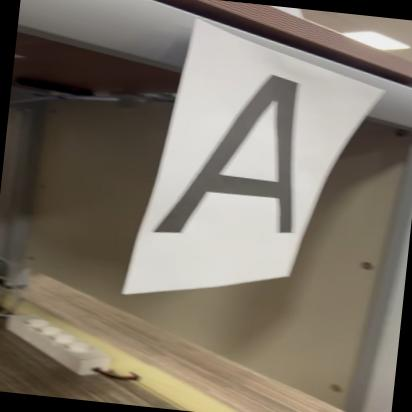seat: (160, 60, 335, 250)
